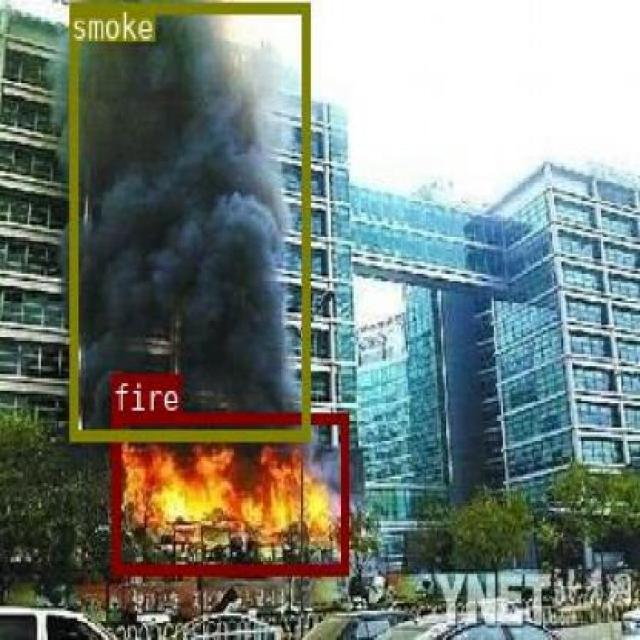Fire: (110, 412, 348, 574)
Smoke: (68, 1, 308, 438)
